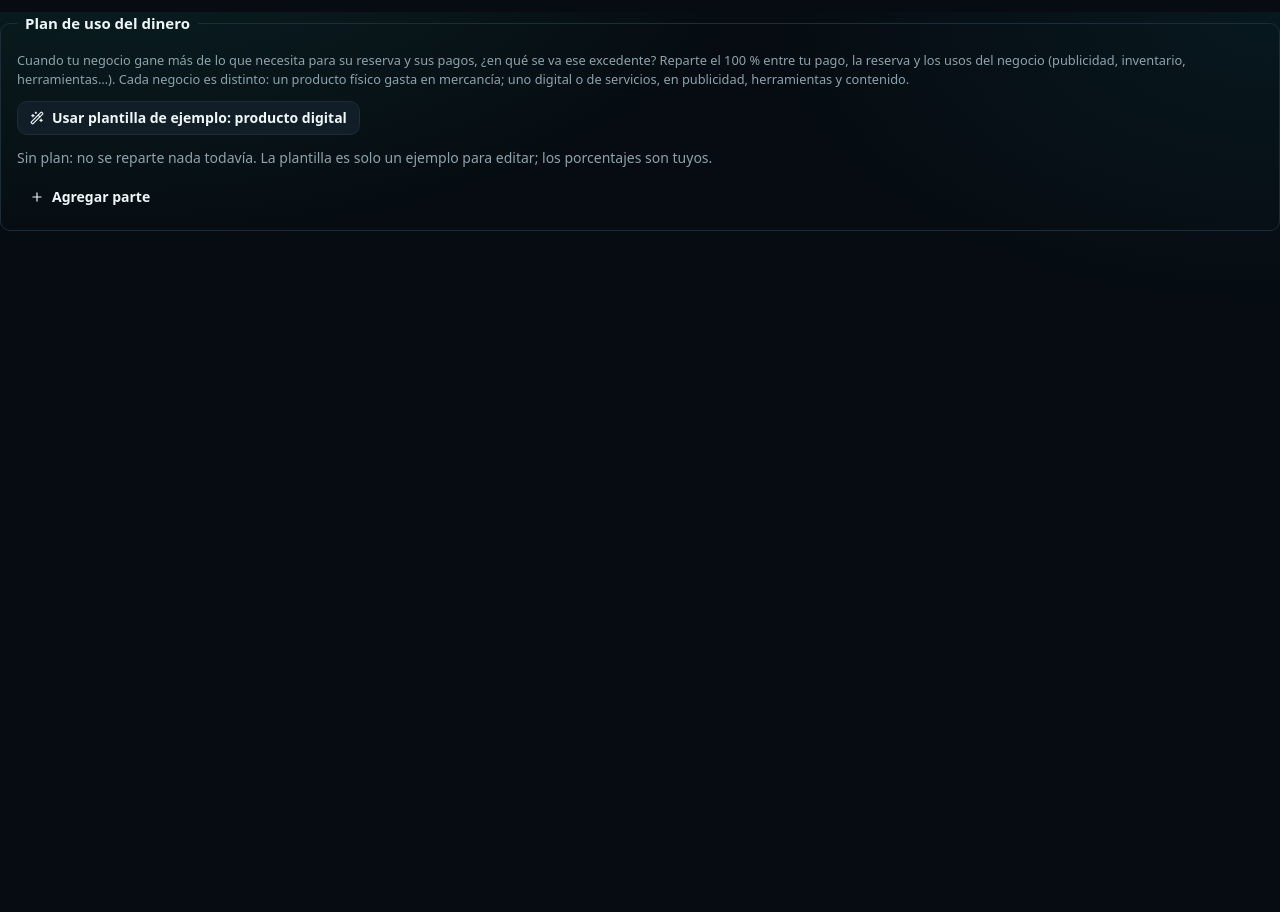
Test: PlanEditor › la plantilla de un negocio digital NO incluye inventario
Click the button "Usar plantilla de ejemplo: producto digital" at (188, 118), box [17,101,360,135]
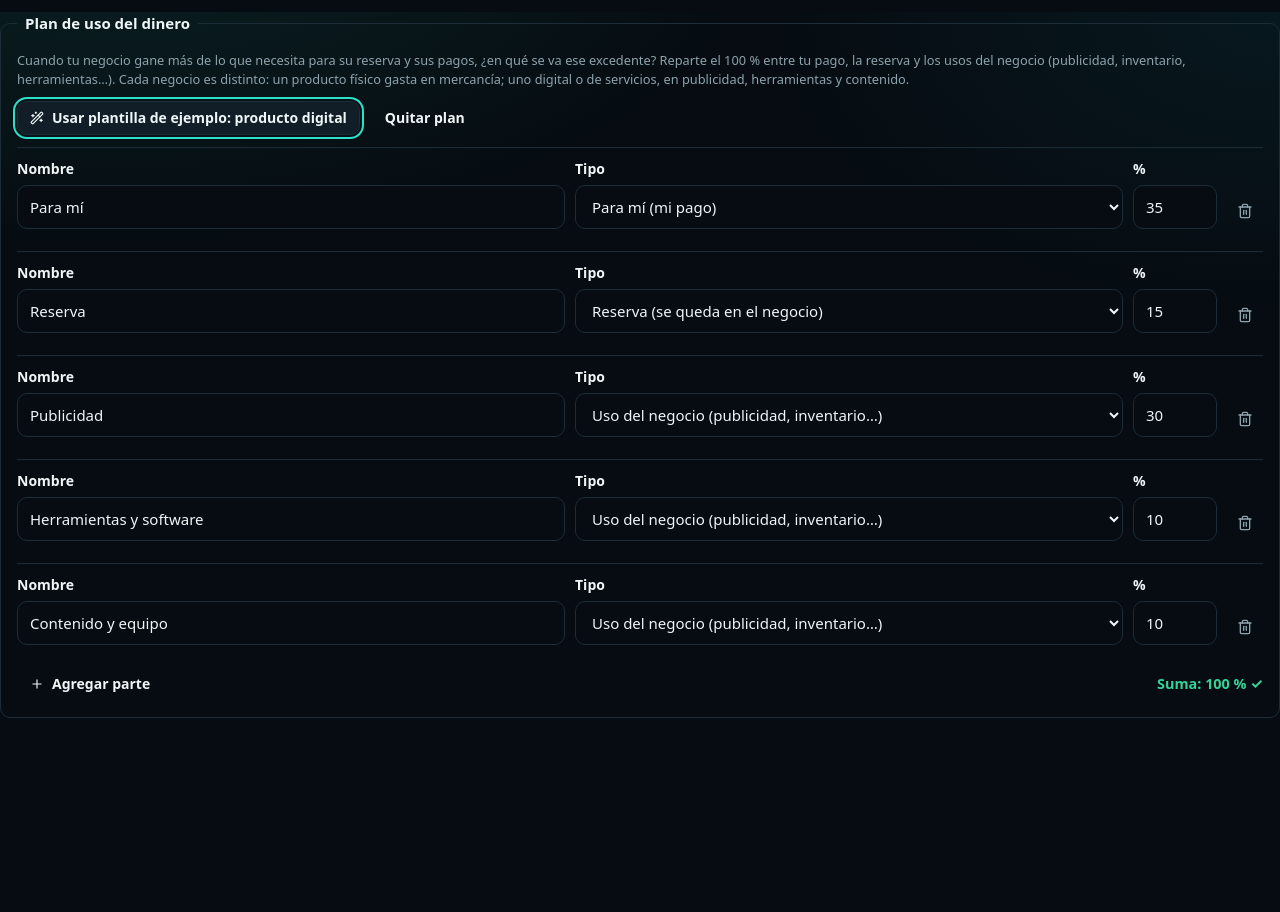
Check: the 4th field showing "Herramientas y software" is shown, box [17,497,565,541]
